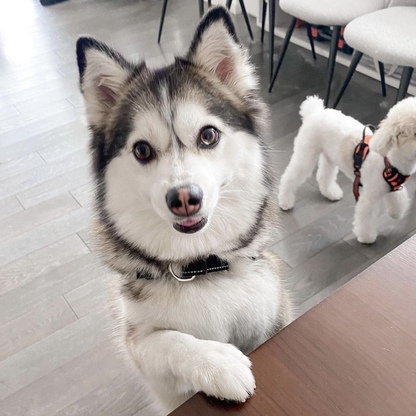husky: (72, 2, 300, 411)
